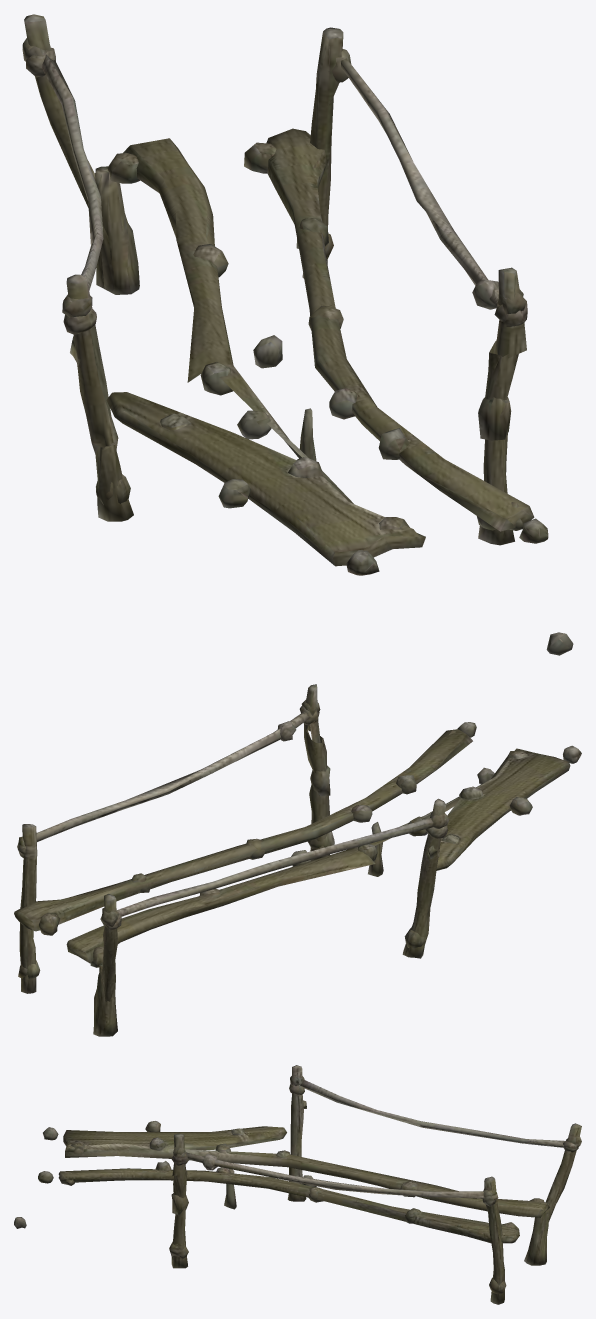
File: av_passarela.glb
3 renders of one model, top to bottom at view 1: azimuth 30°, elevation 25°; view 2: azimuth 150°, elevation 25°; view 3: azimuth 270°, elevation 25°, orthographic. The views are drawn at different scales.
Visible parts, largest first — view 1: Mesh_0.002; view 2: Mesh_0.002; view 3: Mesh_0.002.
Boxes of the visible parts, bbox=[...] form: Mesh_0.002: bbox=[22, 14, 573, 655]; Mesh_0.002: bbox=[14, 684, 581, 1036]; Mesh_0.002: bbox=[14, 1065, 581, 1304].
Bounding box in the file's own units: 0.1689 × 0.0925 × 0.3486.
1 material, 1 textured.
